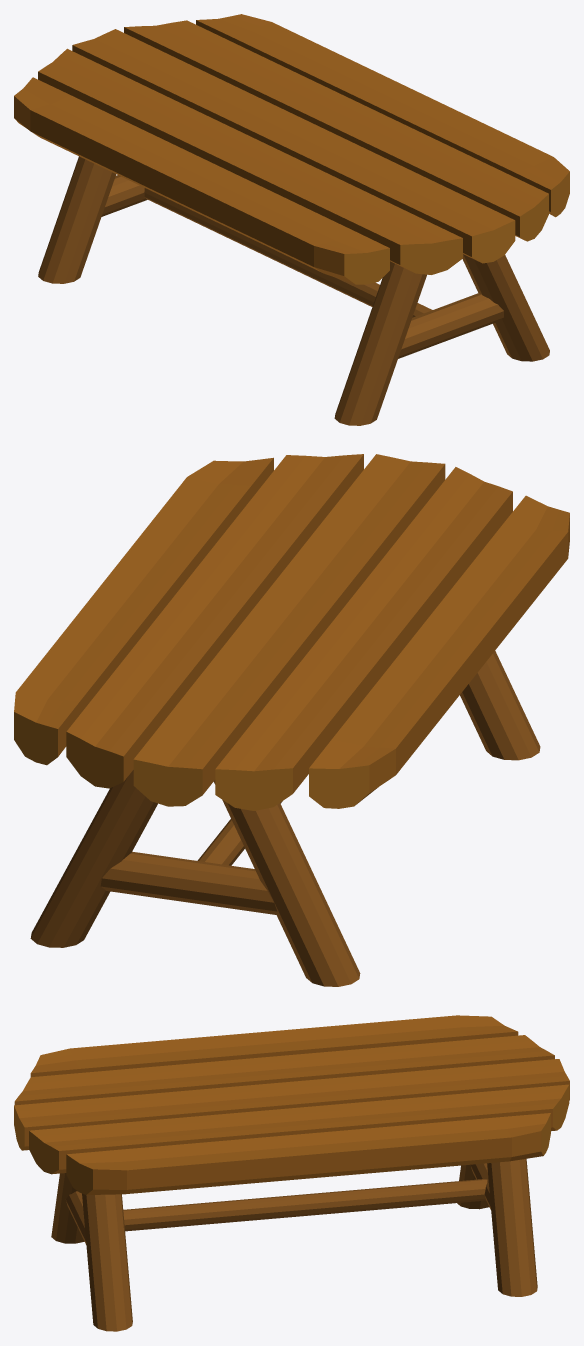
The model's file is Wooden_Table.fbx.
3 renders of one model, top to bottom at view 1: azimuth 30°, elevation 25°; view 2: azimuth 150°, elevation 25°; view 3: azimuth 270°, elevation 25°, orthographic. The views are drawn at different scales.
Parts seen in each view (by area): view 1: Cylinder.013; view 2: Cylinder.013; view 3: Cylinder.013.
Part boxes in pixels (x1=…): Cylinder.013: x1=14, y1=14, x2=569, y2=425; Cylinder.013: x1=14, y1=454, x2=569, y2=986; Cylinder.013: x1=14, y1=1015, x2=569, y2=1331.
Bounding box in the file's own units: 848 × 429 × 1286.
